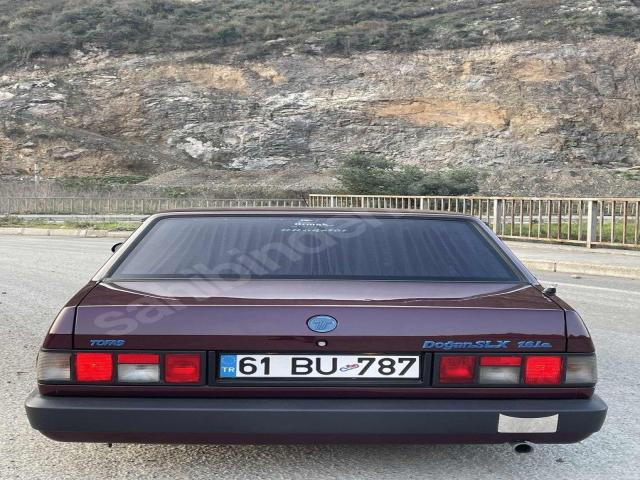plaka: (219, 354, 419, 378)
